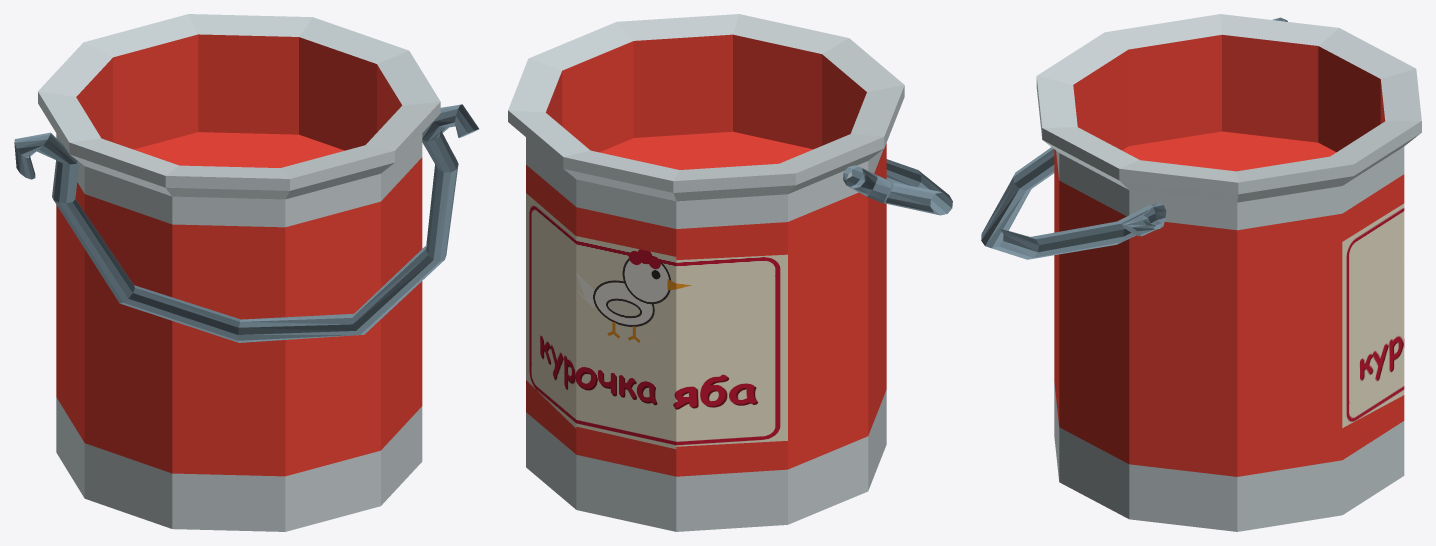
The model's file is mayo-bucket.glb.
The picture shows the model from 3 angles, left to right: view 1: azimuth 30°, elevation 25°; view 2: azimuth 150°, elevation 25°; view 3: azimuth 270°, elevation 25°; orthographic projection.
Visible parts, largest first — view 1: Paint Bucket; view 2: Paint Bucket; view 3: Paint Bucket.
Boxes of the visible parts, <box> form: Paint Bucket: <box>14,14,479,531</box>; Paint Bucket: <box>508,14,952,531</box>; Paint Bucket: <box>981,14,1421,531</box>.
Bounding box in the file's own units: 0.15 × 0.1309 × 0.1465.
Materials: 5 (1 with a texture image).
